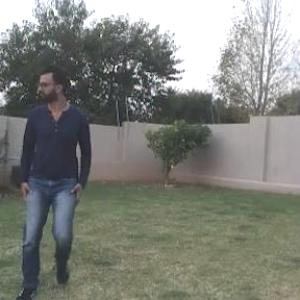follow: (10, 43, 96, 299)
